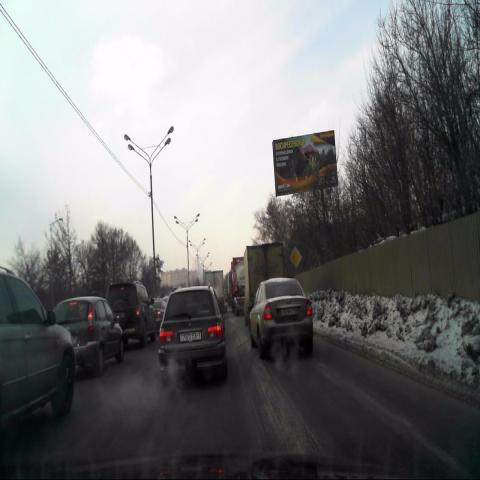2_1: (290, 247, 301, 268)
